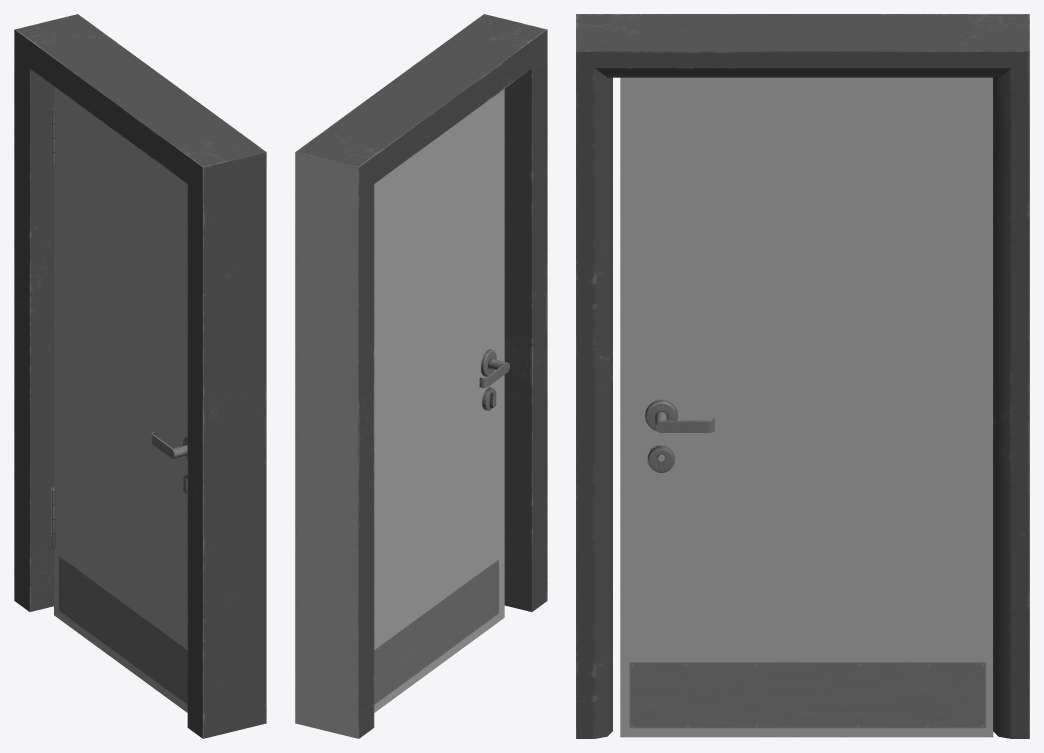
Rendered from Door.fbx.
3 views of the same model, side by side, from view 1: azimuth 30°, elevation 25°; view 2: azimuth 150°, elevation 25°; view 3: azimuth 270°, elevation 25° (orthographic). The views are drawn at different scales.
Visible parts, largest first — view 1: door_a_frame, door_a_merged; view 2: door_a_frame, door_a_merged; view 3: door_a_merged, door_a_frame.
Part boxes in pixels (left/top/right/bottom): door_a_frame: left=14, top=14, right=266, bottom=738; door_a_merged: left=52, top=87, right=187, bottom=712; door_a_frame: left=295, top=14, right=547, bottom=738; door_a_merged: left=374, top=89, right=509, bottom=712; door_a_merged: left=620, top=77, right=993, bottom=737; door_a_frame: left=576, top=14, right=1029, bottom=738.
Size of the model in its own units: 53.07 by 464 by 273.
